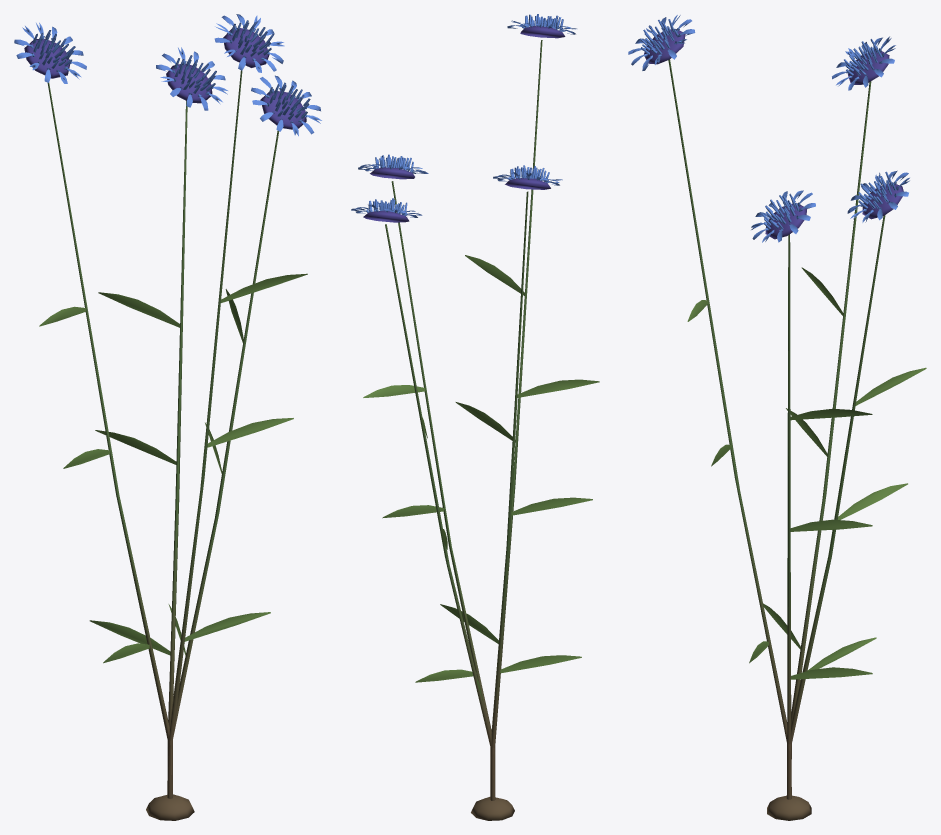
Rendered from Cornflower_lod1.glb.
3 views of the same model, side by side, from view 1: azimuth 30°, elevation 25°; view 2: azimuth 150°, elevation 25°; view 3: azimuth 270°, elevation 25° (orthographic). The views are drawn at different scales.
Visible parts, largest first — view 1: Plant_LOD1; view 2: Plant_LOD1; view 3: Plant_LOD1.
Part boxes in pixels (x1,y1,x2,y2): Plant_LOD1: [14, 14, 321, 820]; Plant_LOD1: [351, 14, 599, 820]; Plant_LOD1: [628, 15, 926, 820].
Size of the model in its own units: 0.2223 by 0.6531 by 0.2229.
